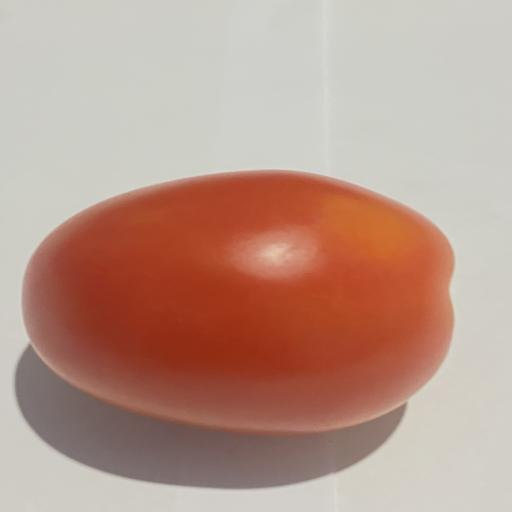ripe: (23, 171, 453, 434)
